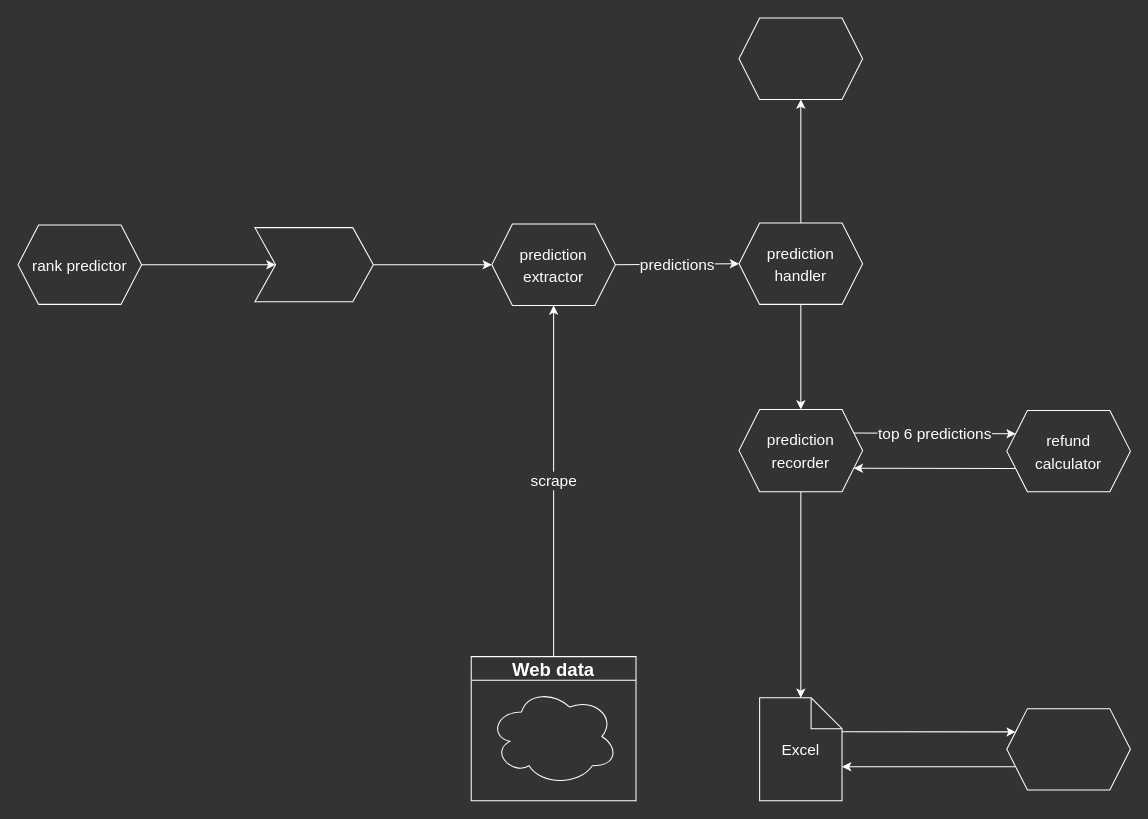
The diagram is 1148 pixels wide and 819 high, and some of its shapes have lost their labels. The centre of each missing label's shape, as x and y in pixels:
excel decorator: point 1068,749
predict: point 313,264
prediction displayer: point 800,58
race.netkeiba: point 553,735
